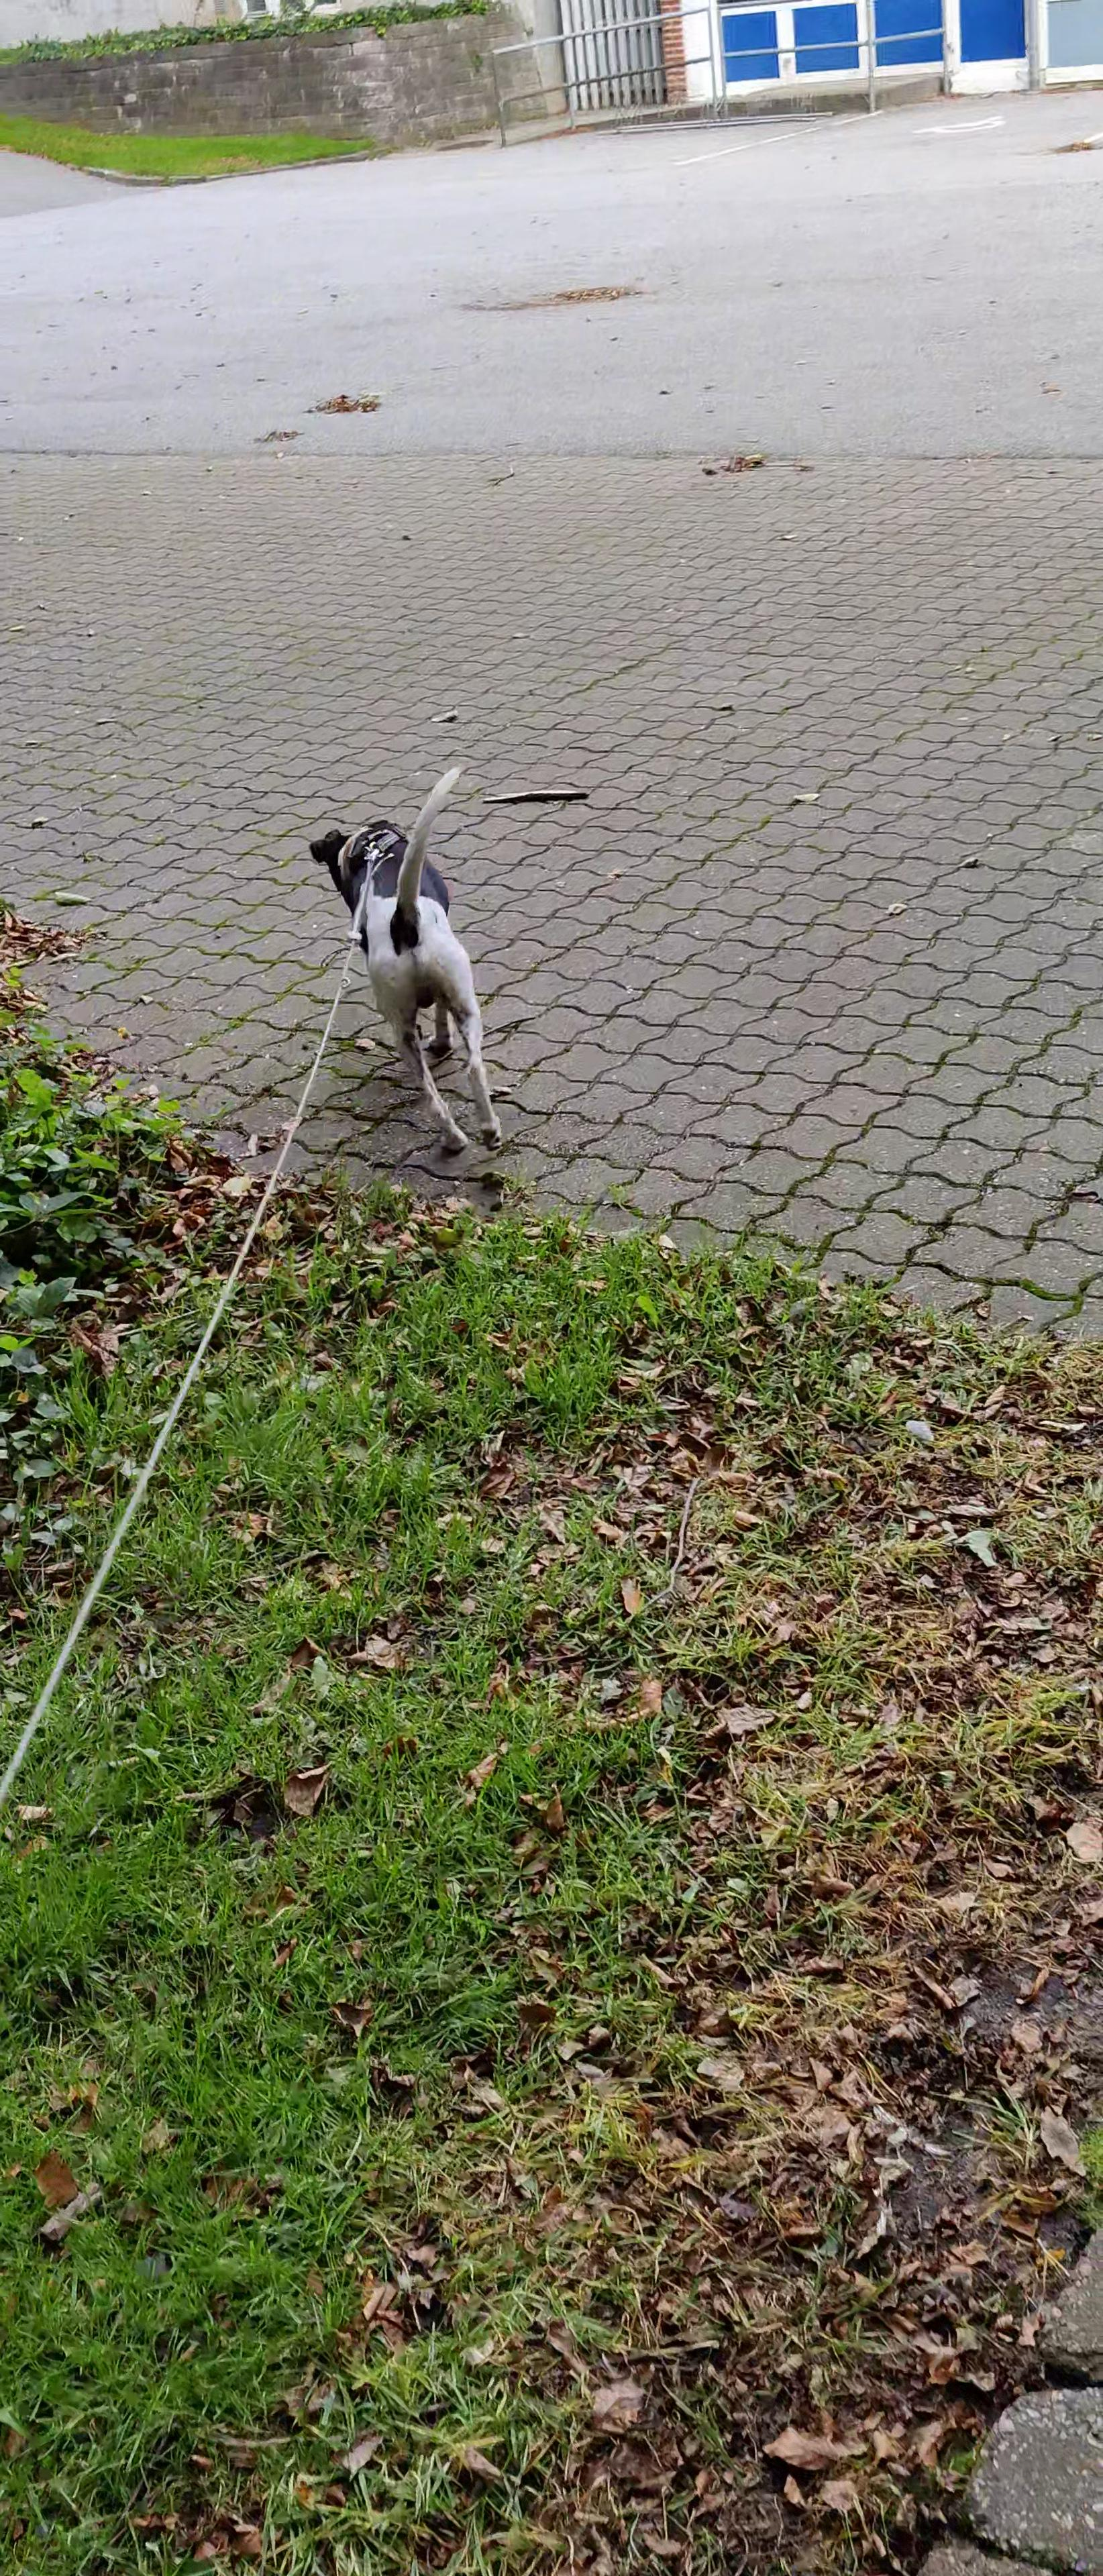Dog: (271, 738, 519, 1186)
